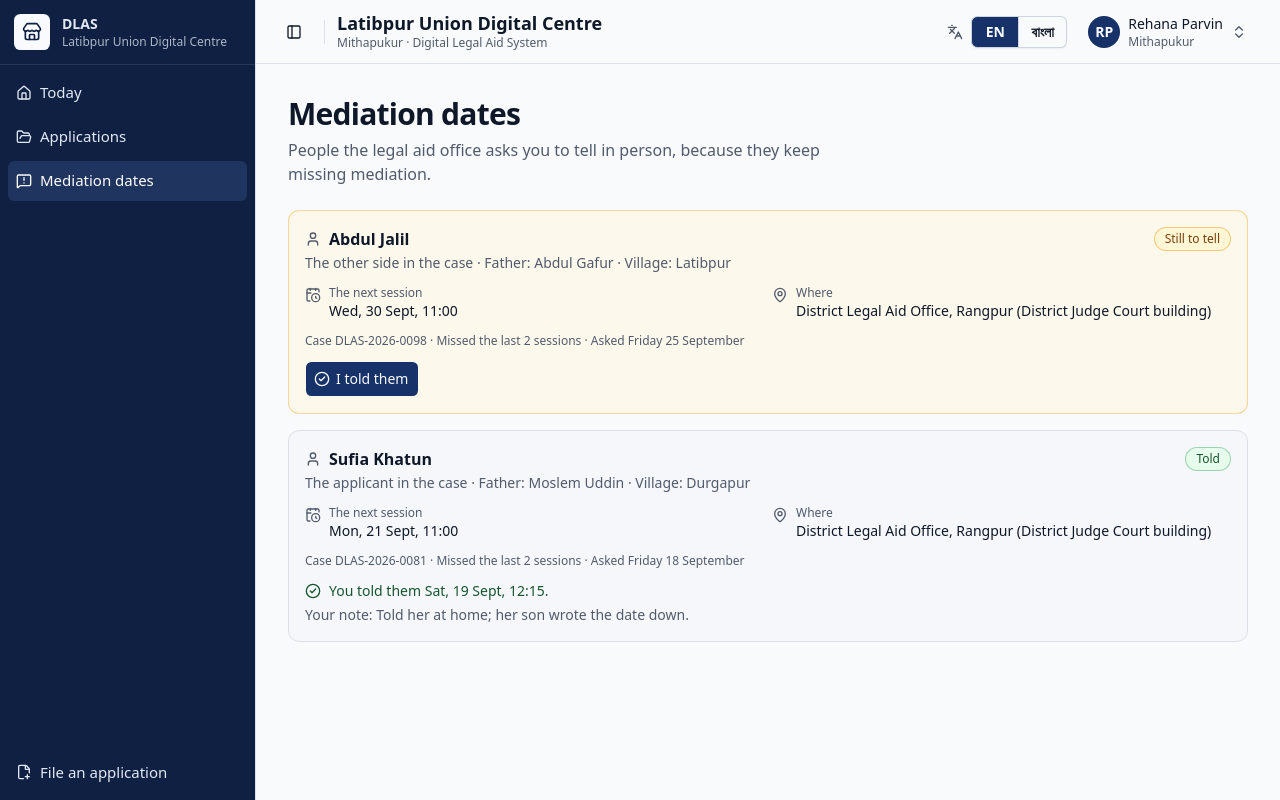
Test: mediation dates the centre passes on › records that the entrepreneur told them, with a note for the office
This screenshot has width=1280, height=800.
Click the button "I told them" at point(362, 379), box x1=305 y1=361 x2=420 y2=397
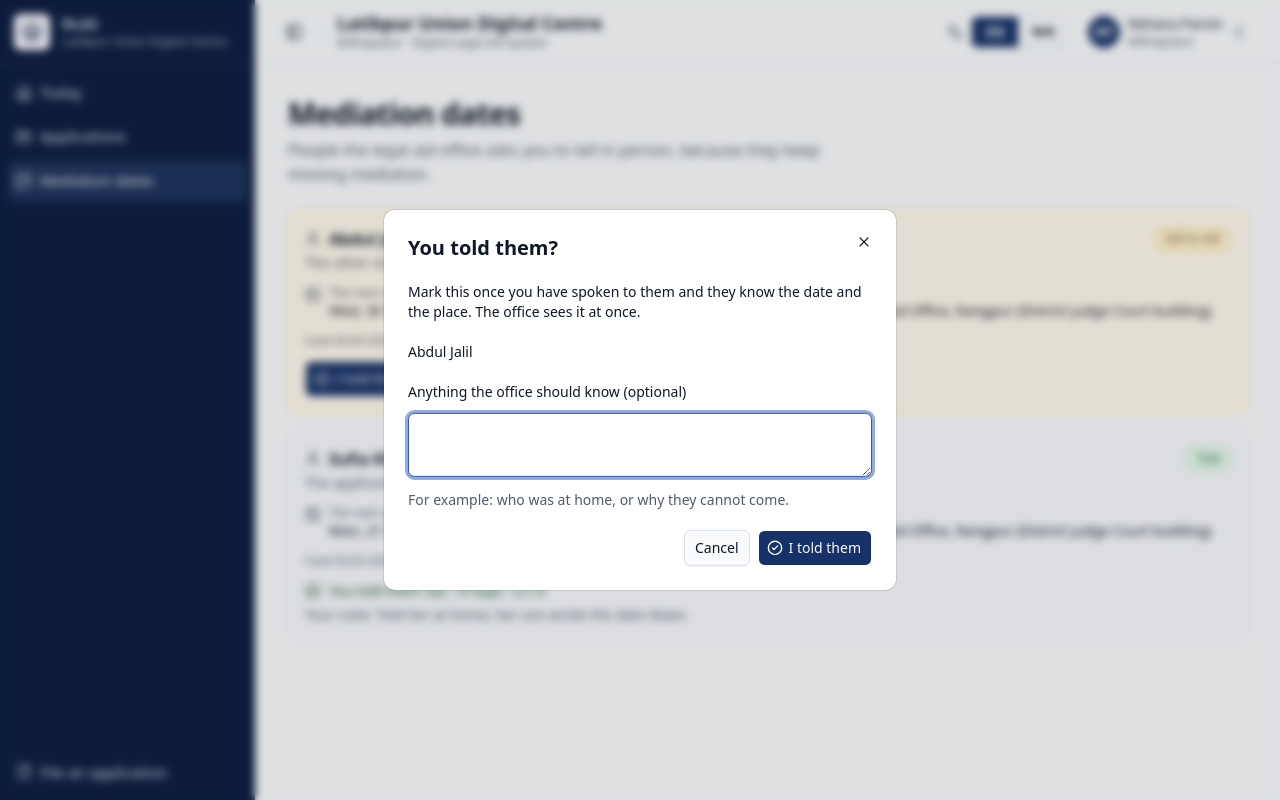
Type "He was at the market; his wife will tell him tonight." into the text box labelled "Anything the office should know (optional)" at point(640, 445), box x1=408 y1=413 x2=872 y2=477
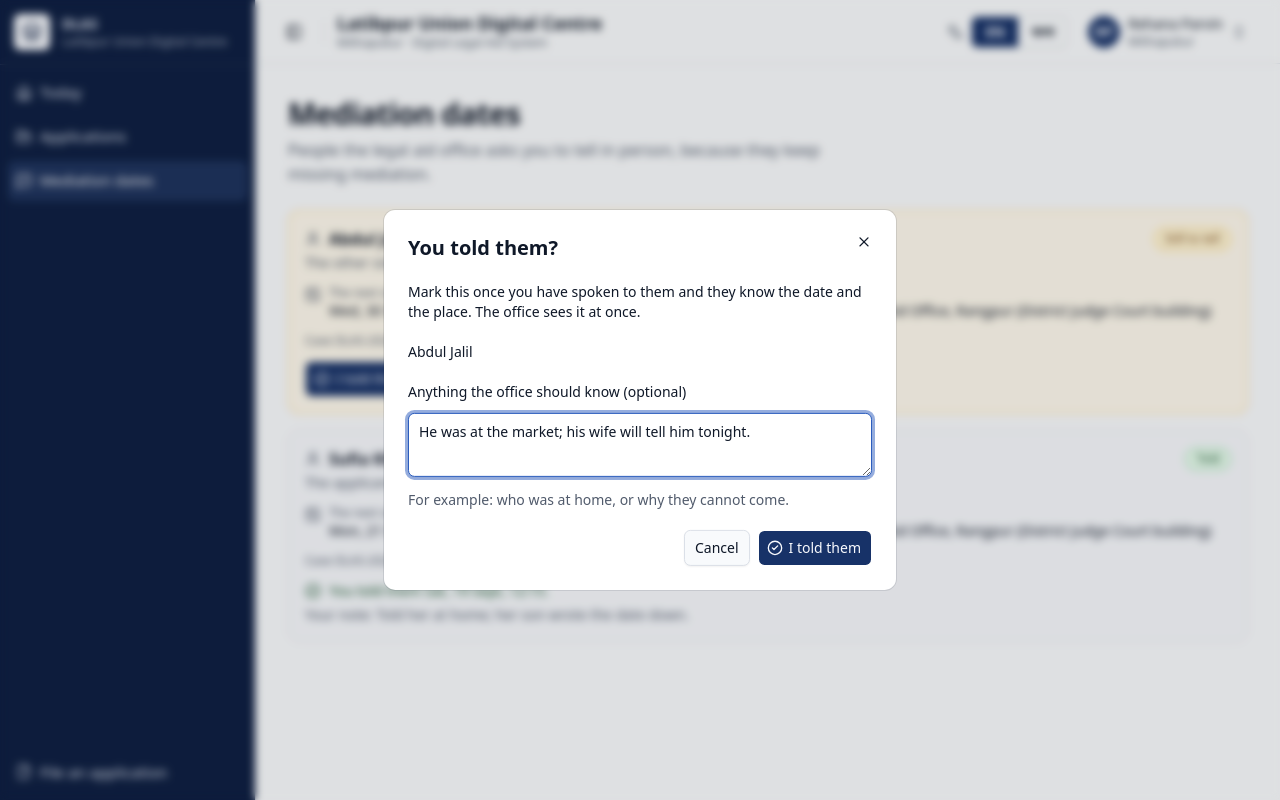
Click the button "I told them" at point(815, 548), box x1=758 y1=530 x2=872 y2=566
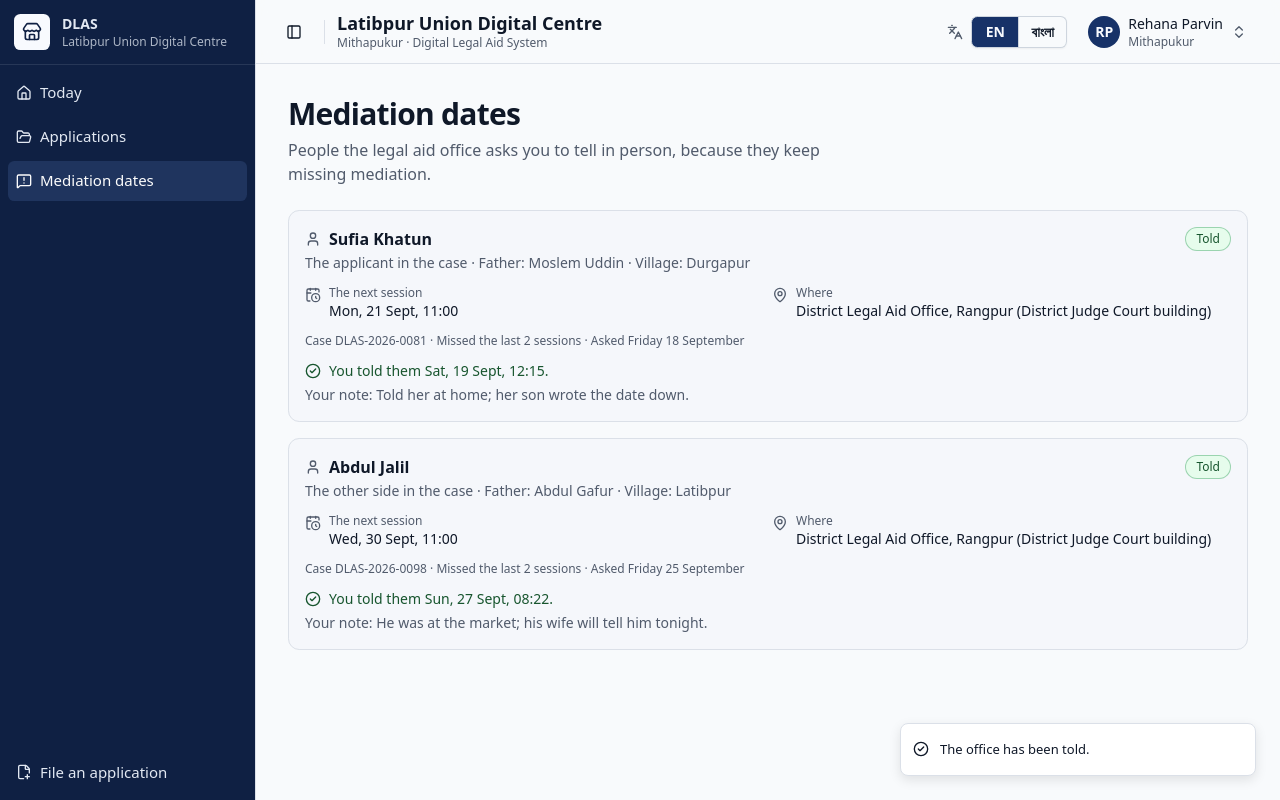
Result: the text "The office has been told." is shown at x1=940 y1=740 x2=1090 y2=759
Result: the icon "Told" in the row of "Abdul Jalil" is shown at x1=1196 y1=458 x2=1220 y2=475
Result: the text "his wife will tell him tonight" is shown at x1=305 y1=613 x2=707 y2=632
